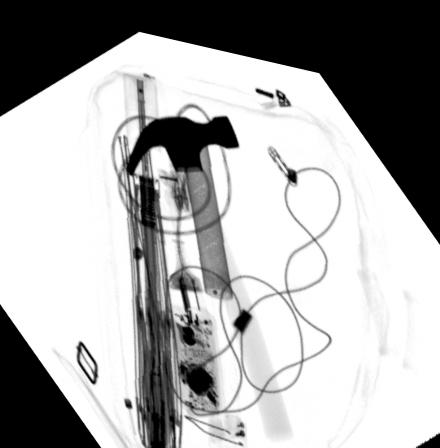Hammer: (125, 105, 294, 427)
